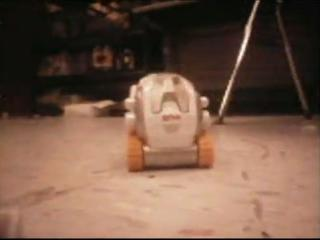cozmo: (123, 71, 215, 171)
